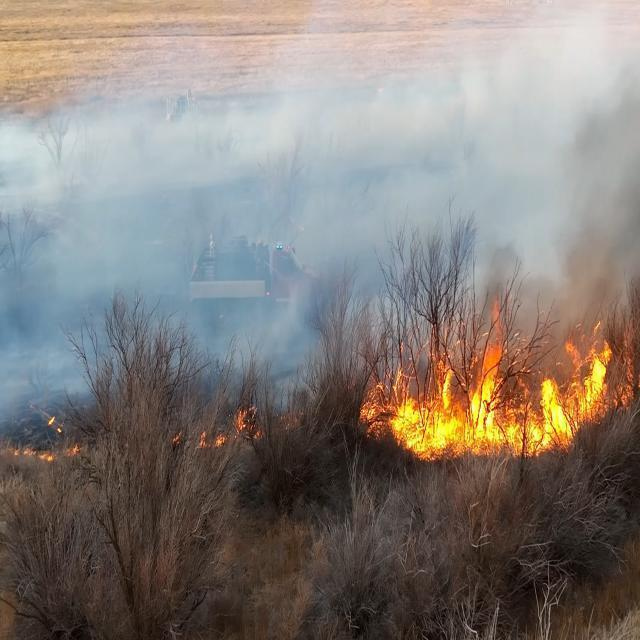Fire: (368, 318, 506, 471), (504, 343, 604, 469)
Smoke: (510, 43, 640, 298), (25, 132, 139, 320)
